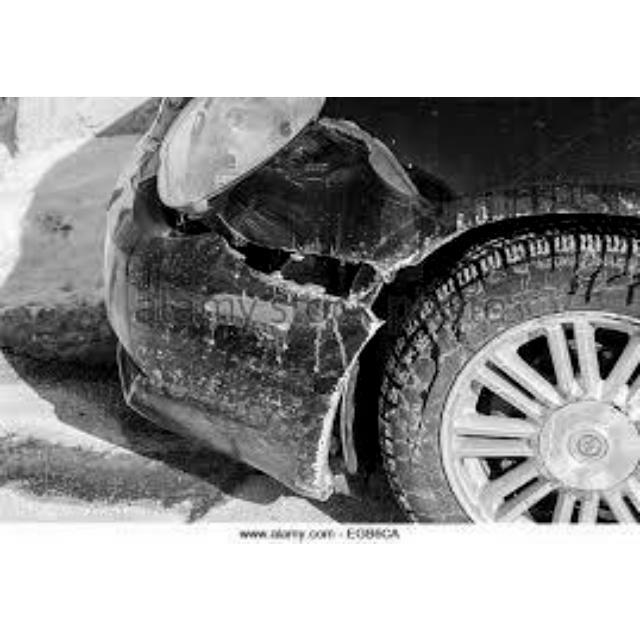fender-dent: (254, 96, 467, 244)
front-bumper-dent: (134, 240, 373, 416)
